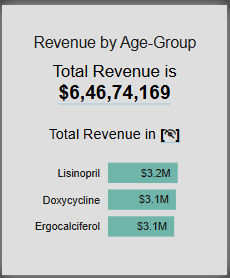

What the dashboard file says about the page in this screenshot:
{"tool":"powerbi","page":{"name":"Tooltip","canvas":[250,300],"ordinal":4},"visuals":[{"type":"barChart","fields":{"Y":["Calculations.Total Revenue"],"Category":["DrugLookup.DrugName"]},"box":[21.2,150.4,207.3,125.5],"z":0},{"type":"textbox","box":[25,128.8,200,48.8],"z":1000},{"type":"card","fields":{"Values":["Calculations.Title Active CAG"]},"box":[21,27,207,32],"z":2000},{"type":"textbox","box":[25,58.8,200,62.5],"z":3000}]}

Visuals, with their boxes in screenshot pixels (x1, y1, x2, y2), scaled from the page's 250x300 canvas onto the 230x278 screenshot:
barChart - Calculations.Total Revenue x DrugLookup.DrugName: (x1=20, y1=139, x2=210, y2=256)
textbox: (x1=23, y1=119, x2=207, y2=165)
card - Calculations.Title Active CAG: (x1=19, y1=25, x2=210, y2=55)
textbox: (x1=23, y1=54, x2=207, y2=112)
